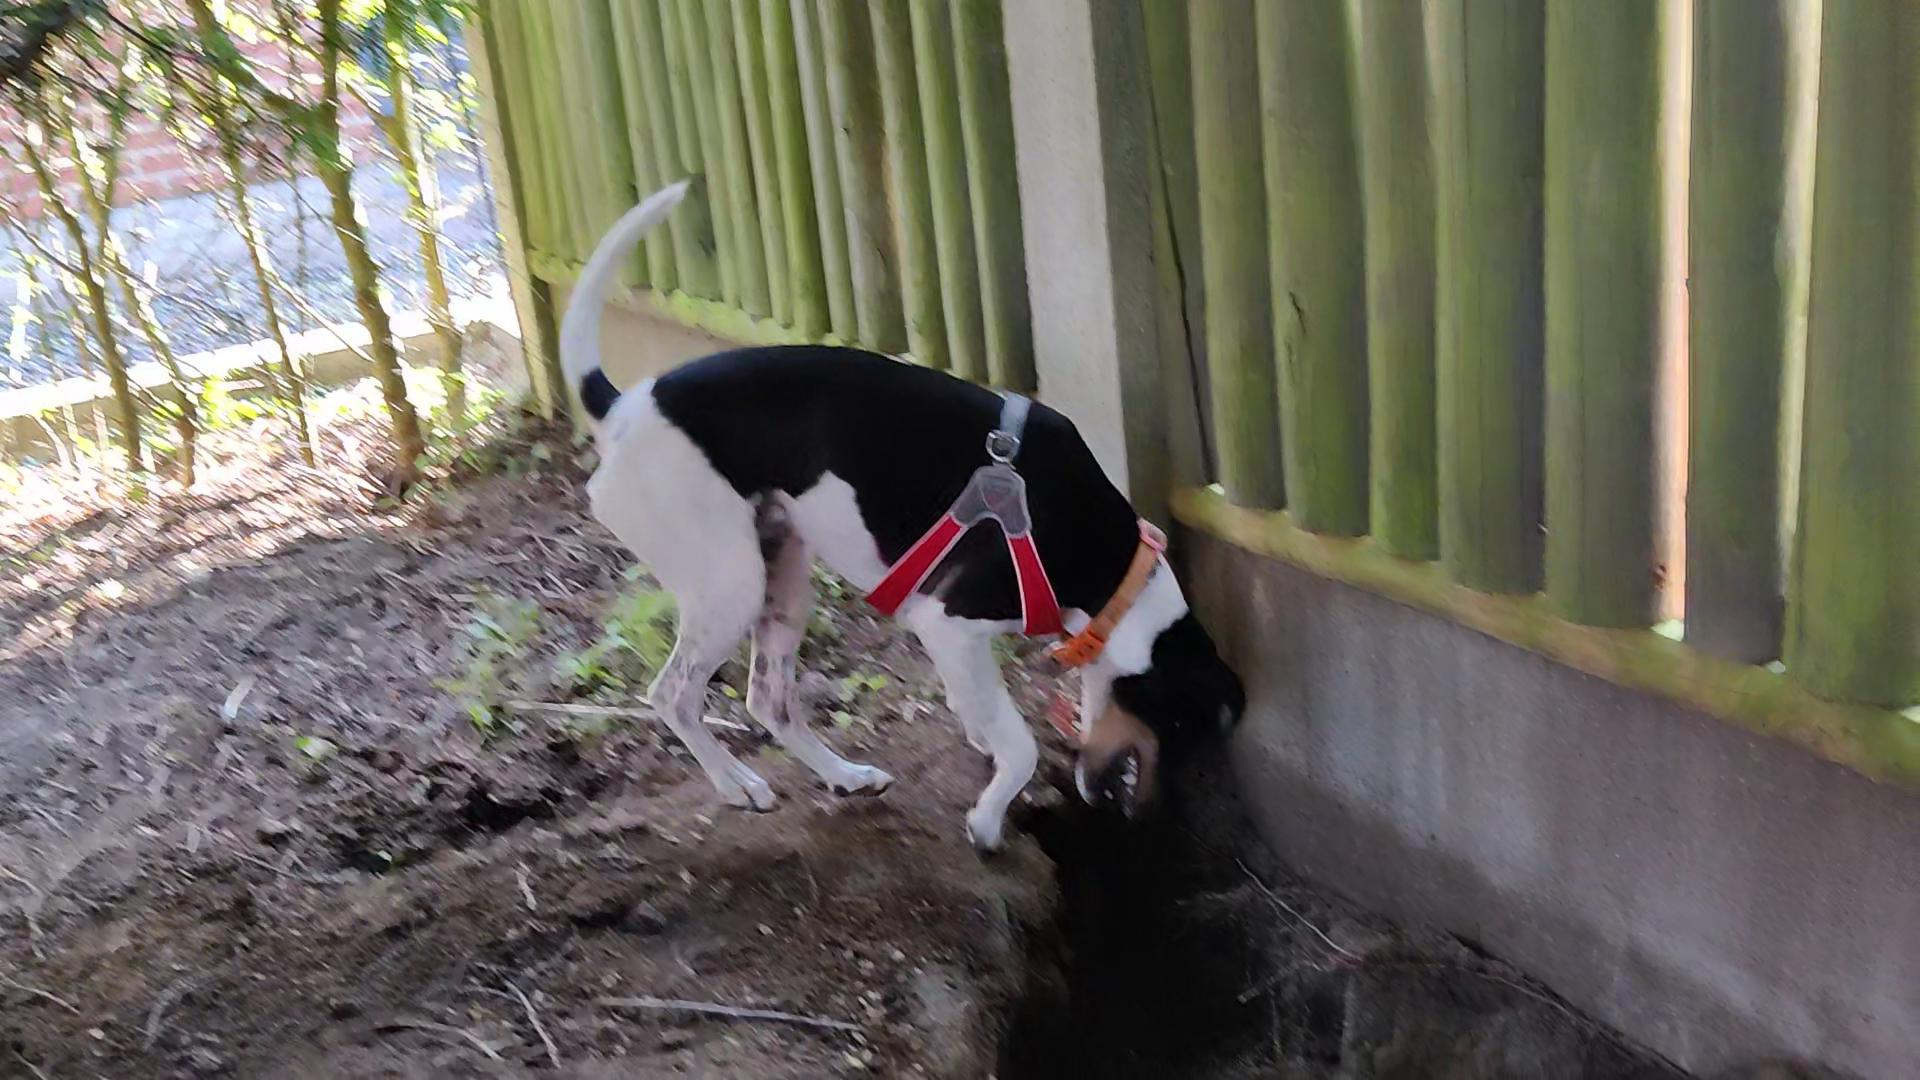Dog: (530, 164, 1265, 853)
